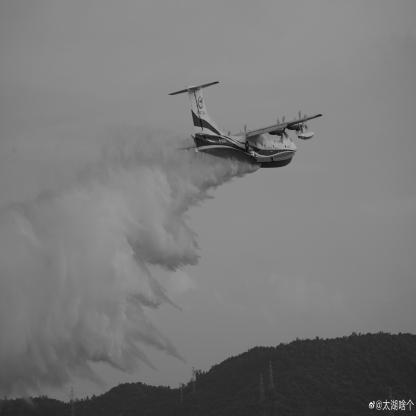AG600: (169, 82, 324, 170)
